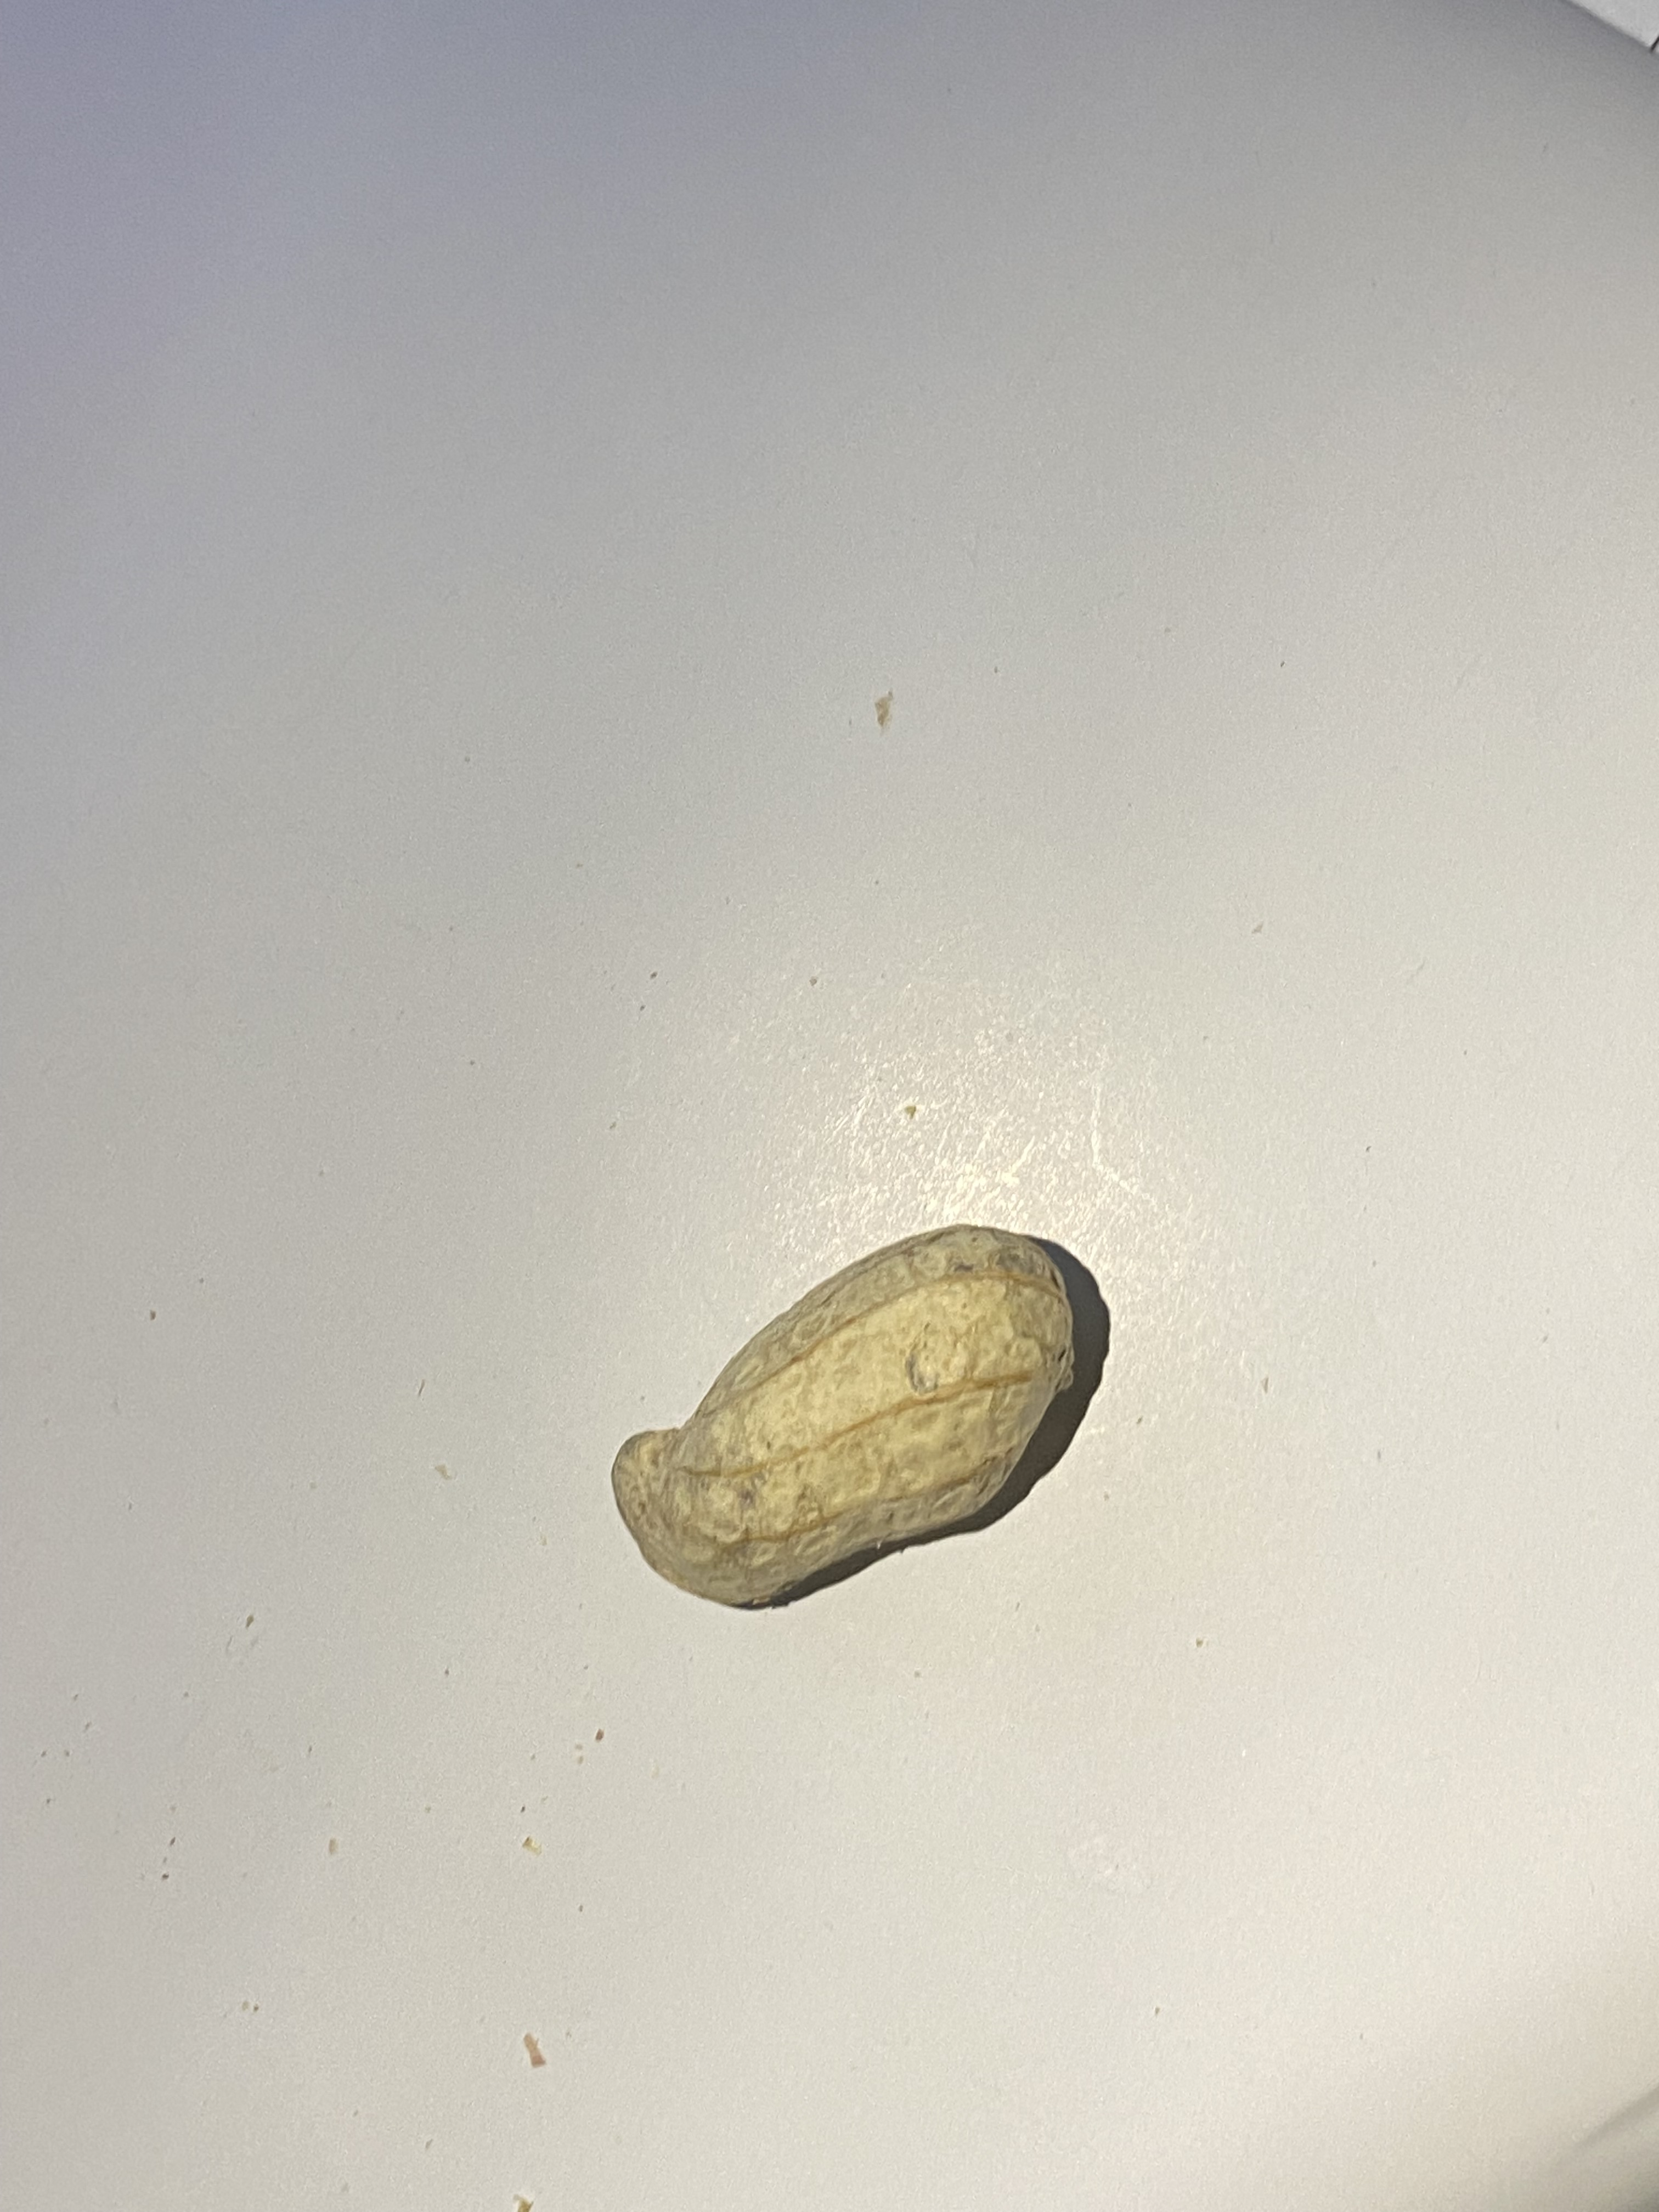kacang1: (601, 1195, 1112, 1620)
